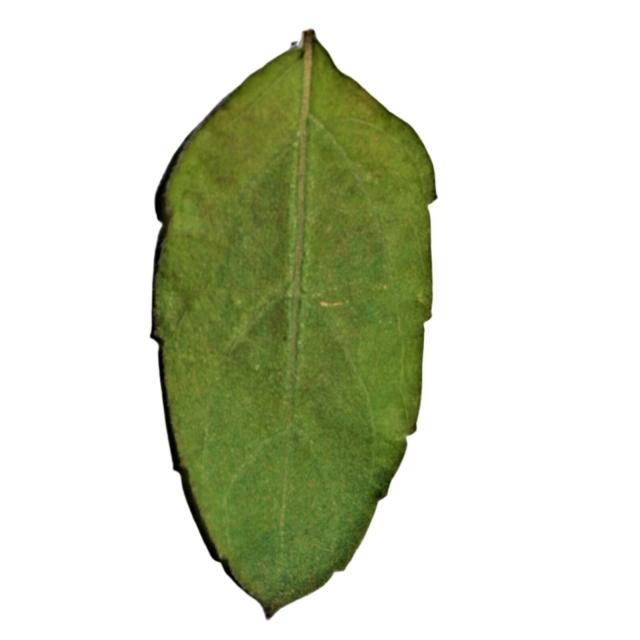tulsi: (150, 25, 440, 622)
